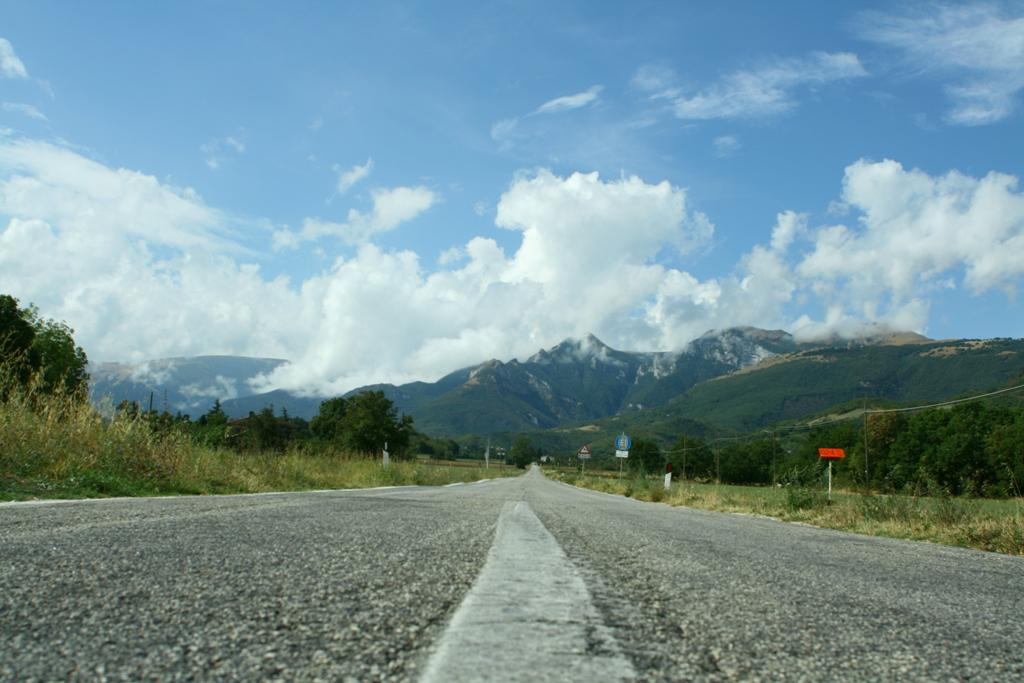Tree: (835, 396, 1018, 494), (3, 290, 94, 416), (312, 388, 421, 451), (707, 436, 792, 481), (590, 433, 670, 476), (236, 400, 293, 452), (190, 391, 232, 443), (110, 390, 154, 427), (405, 428, 458, 457), (504, 432, 545, 465), (670, 445, 707, 476), (167, 408, 195, 441), (133, 411, 167, 436), (462, 432, 490, 462)
